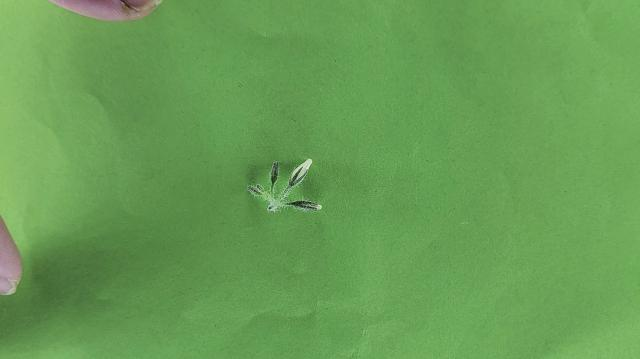Flower Bud: (289, 158, 312, 188), (287, 200, 322, 211), (270, 161, 279, 188), (246, 185, 264, 196)
